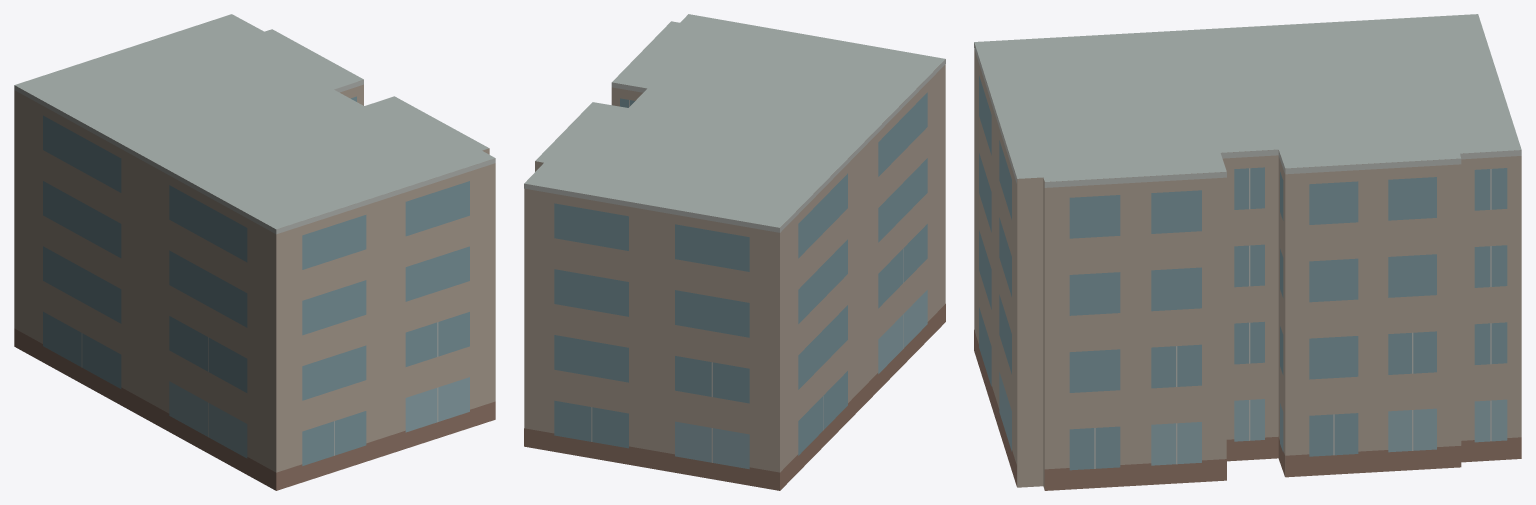
Rendered from survey-upis-32673159.glb.
3 views of the same model, side by side, from view 1: azimuth 30°, elevation 25°; view 2: azimuth 150°, elevation 25°; view 3: azimuth 270°, elevation 25° (orthographic). The views are drawn at different scales.
Visible parts, largest first — view 1: survey-upis-32673159.tmp; view 2: survey-upis-32673159.tmp; view 3: survey-upis-32673159.tmp.
Part boxes in pixels (box(x1,y1,x2,y2)): survey-upis-32673159.tmp: box(14, 14, 495, 490); survey-upis-32673159.tmp: box(524, 14, 945, 490); survey-upis-32673159.tmp: box(974, 14, 1521, 490).
Bounding box in the file's own units: 15.03 × 12.87 × 20.69.
